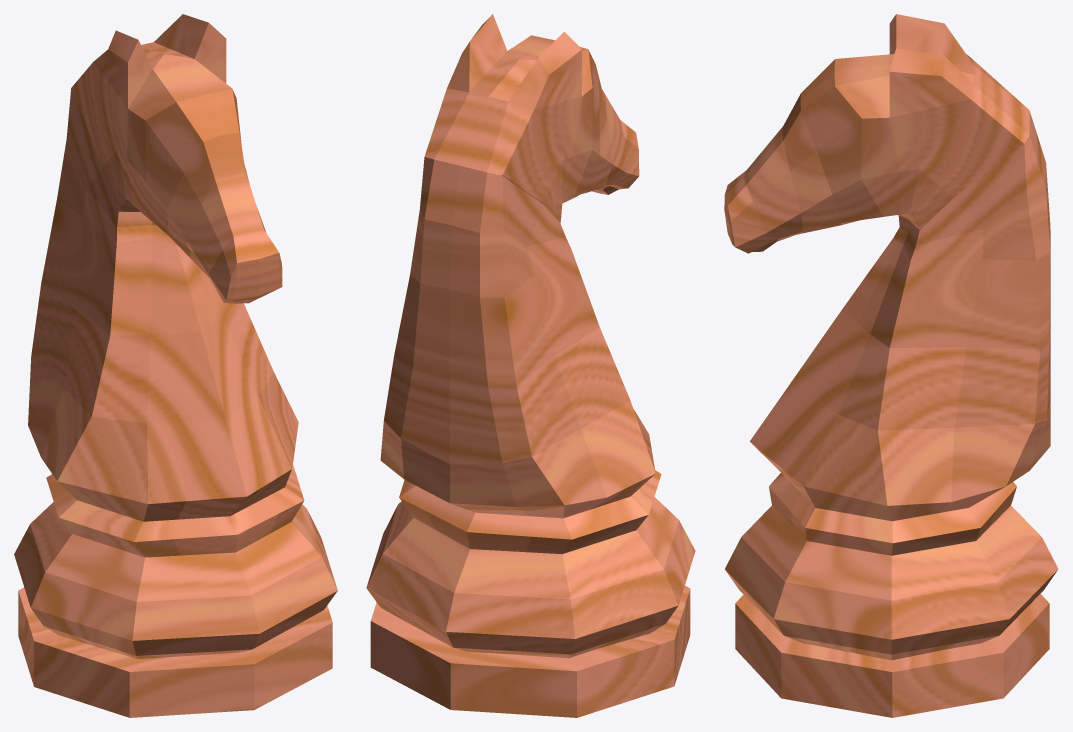
Rendered from chessKnightWMat.glb.
3 renders of one model, left to right at view 1: azimuth 30°, elevation 25°; view 2: azimuth 150°, elevation 25°; view 3: azimuth 270°, elevation 25°, orthographic.
Visible parts, largest first — view 1: Knight; view 2: Knight; view 3: Knight.
Part boxes in pixels (x1,y1,x2,y2): Knight: [14, 14, 337, 717]; Knight: [366, 14, 695, 717]; Knight: [724, 14, 1058, 717].
Bounding box in the file's own units: 1.99 × 4.05 × 1.98.
1 material, 1 textured.
